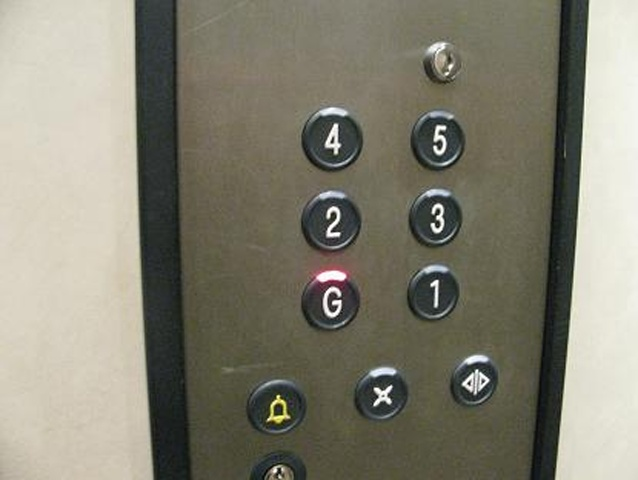1: (404, 261, 461, 326)
2: (298, 187, 364, 256)
3: (406, 185, 466, 249)
4: (299, 105, 365, 174)
5: (408, 108, 468, 174)
G: (299, 267, 362, 333)
alarm: (244, 377, 308, 437)
fan: (352, 364, 410, 423)
keyhole: (421, 39, 465, 87)
open: (449, 352, 499, 409)
